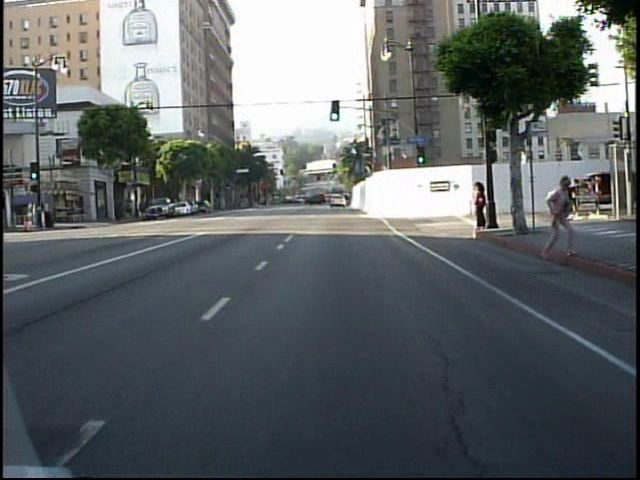person: (540, 172, 575, 266), (472, 180, 489, 234)
